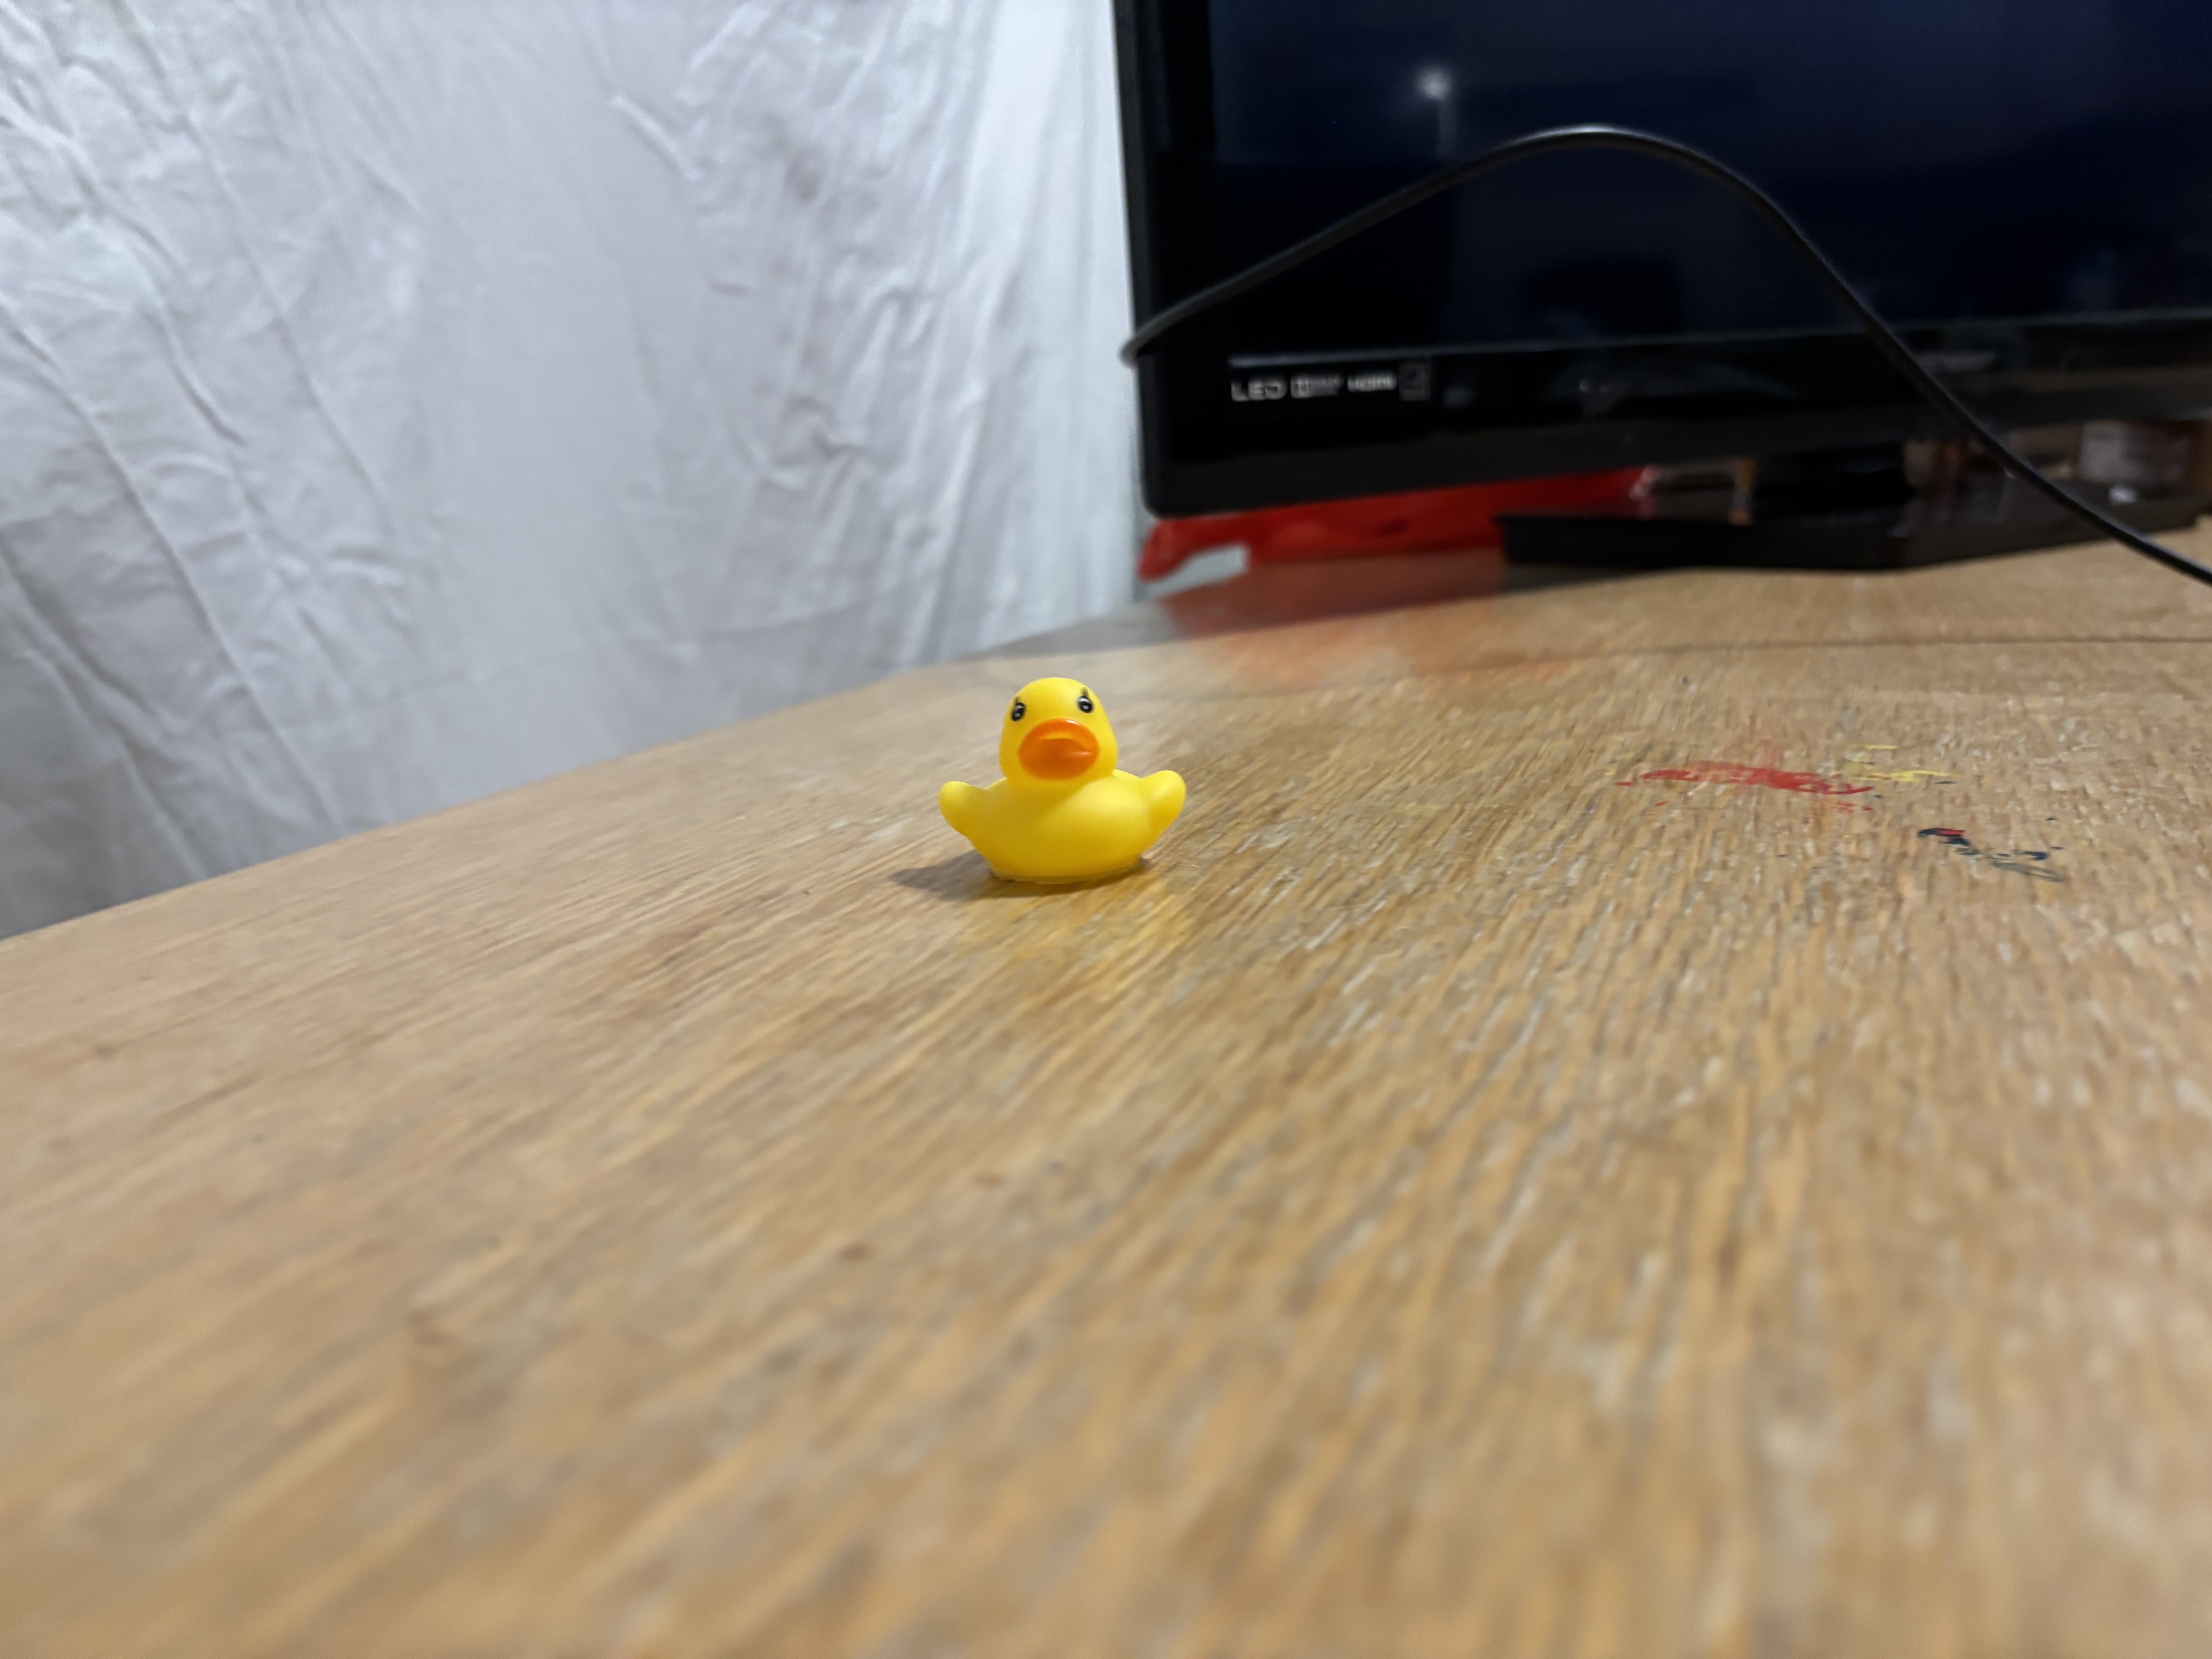duck_regular: (925, 680, 1179, 878)
